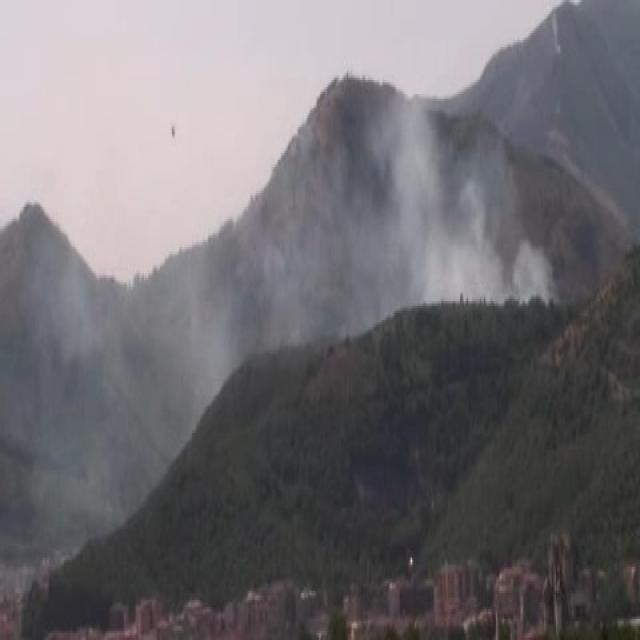smoke: (333, 93, 557, 301)
